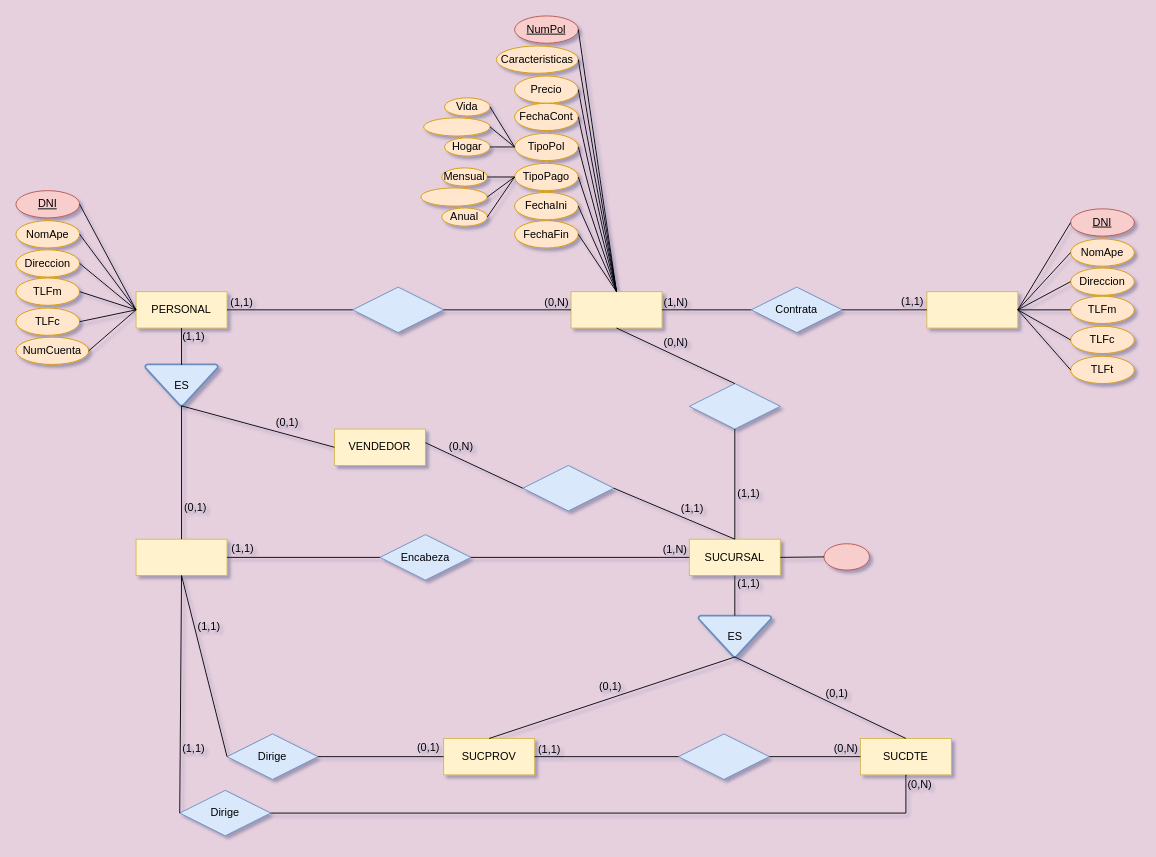
Image size: 1156x857. Some labels were removed from this diagram. The centre of each missing label's shape, as x and y in pixels:
"Asocia" belongs at (x=734, y=406).
"Automovil" belongs at (x=456, y=126).
"CLIENTE" belongs at (x=972, y=309).
"COD" belongs at (x=846, y=556).
"Depende" belongs at (x=723, y=756).
"JEFESUC" belongs at (x=181, y=557).
"POLIZA" belongs at (x=616, y=309).
"Trabaja" belongs at (x=568, y=488).
"Trimestral" belongs at (x=453, y=196).
"Vende" belongs at (x=398, y=309).
